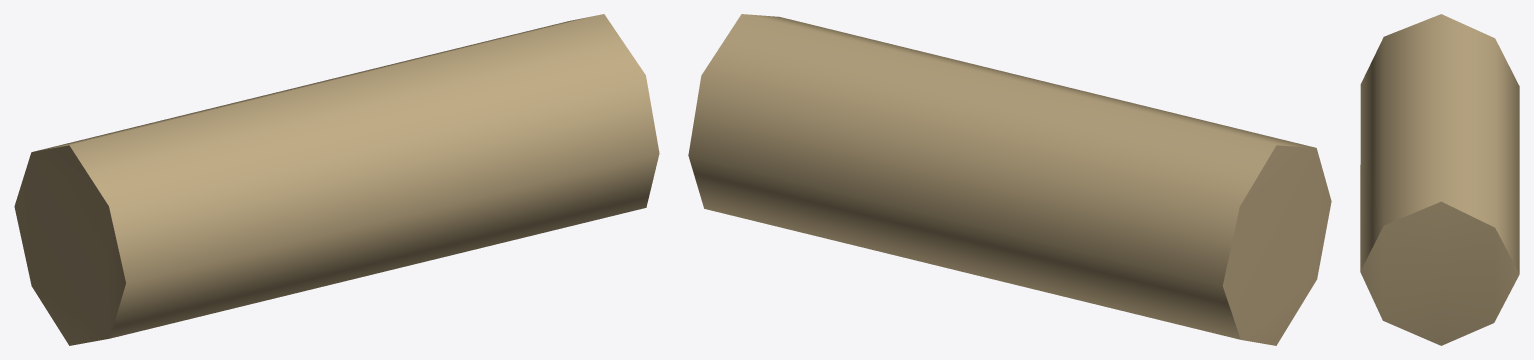
Rendered from mutou.fbx.
The picture shows the model from 3 angles, left to right: view 1: azimuth 30°, elevation 25°; view 2: azimuth 150°, elevation 25°; view 3: azimuth 270°, elevation 25°; orthographic projection. The views are drawn at different scales.
Visible parts, largest first — view 1: Low_Log; view 2: Low_Log; view 3: Low_Log.
Boxes of the visible parts, box(x1,y1,x2,y2) form: Low_Log: box(14, 14, 659, 345); Low_Log: box(688, 14, 1331, 345); Low_Log: box(1360, 14, 1519, 345).
Bounding box in the file's own units: 225 × 80.43 × 80.03.
